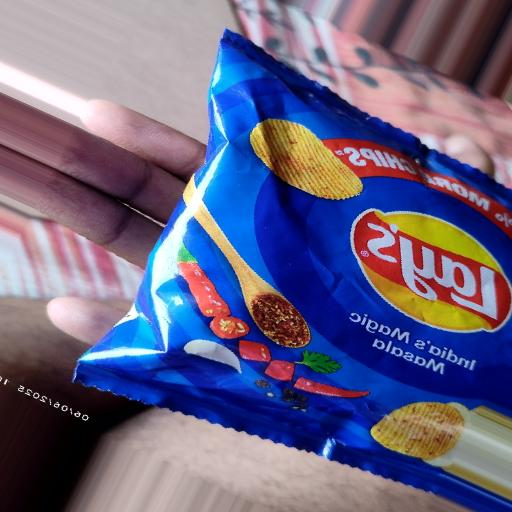Lays Blue (India Masala magic): (86, 72, 512, 461)
